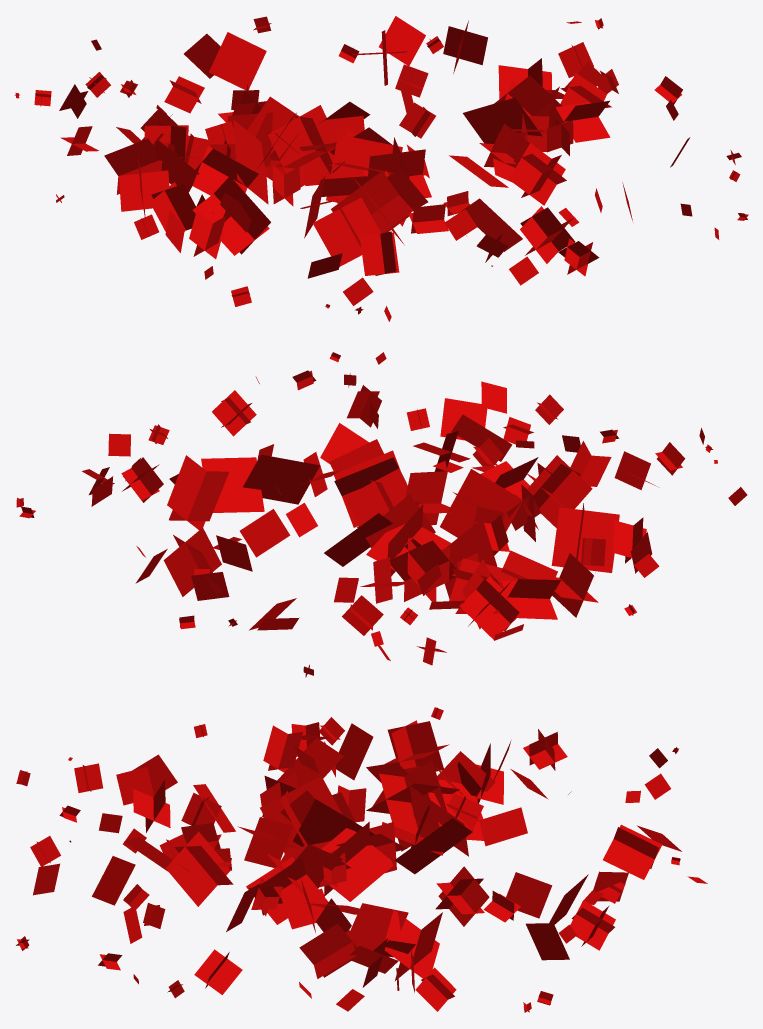
3 views of the same model, one above another, from view 1: azimuth 30°, elevation 25°; view 2: azimuth 150°, elevation 25°; view 3: azimuth 270°, elevation 25° (orthographic). The views are drawn at different scales.
Parts seen in each view (by area): view 1: sargassum final 2; view 2: sargassum final 2; view 3: sargassum final 2.
Part boxes in pixels (x1,y1,x2,y2): sargassum final 2: (14,16,748,321); sargassum final 2: (16,352,747,677); sargassum final 2: (16,707,707,1012).
Size of the model in its own units: 4.4 by 0.5914 by 4.57.
